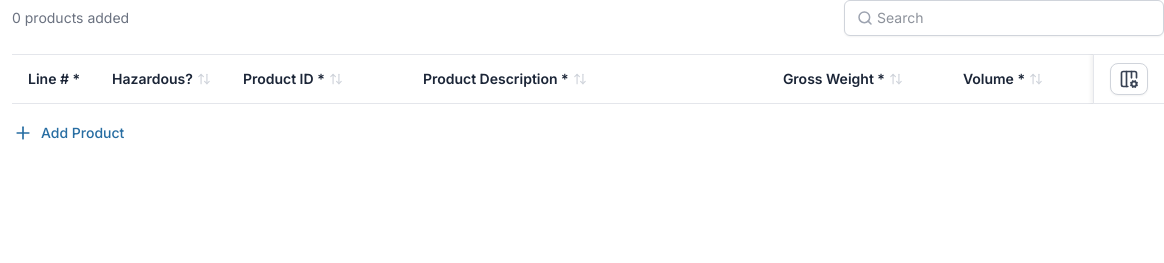
Test: product count › Add Product bumps the counter immediately, per row
Click the button "Add Product": (69, 133) top-left (12, 122), bottom-right (125, 144)
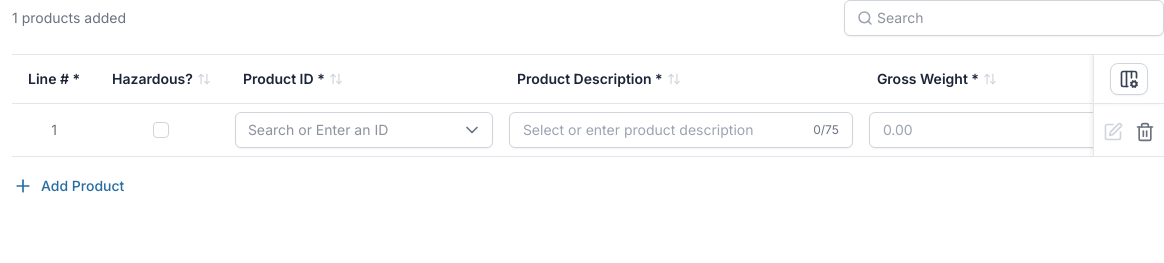
Expected: the text "1 products added" is shown, top-left (12, 8), bottom-right (126, 28)
Click the button "Add Product": (69, 186) top-left (12, 175), bottom-right (125, 197)
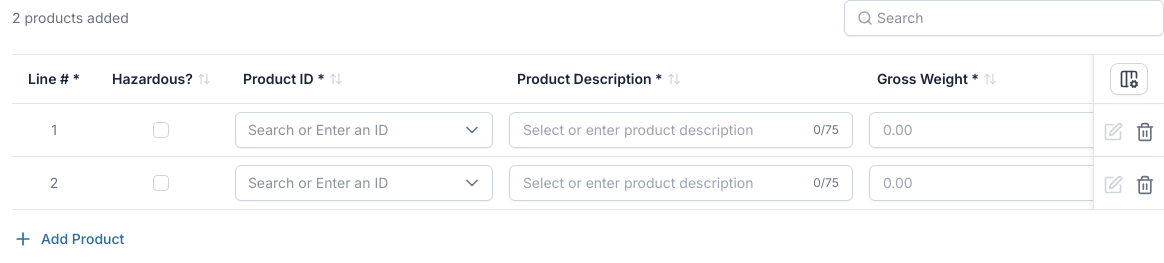
Expected: the text "2 products added" is shown, top-left (12, 8), bottom-right (129, 28)
